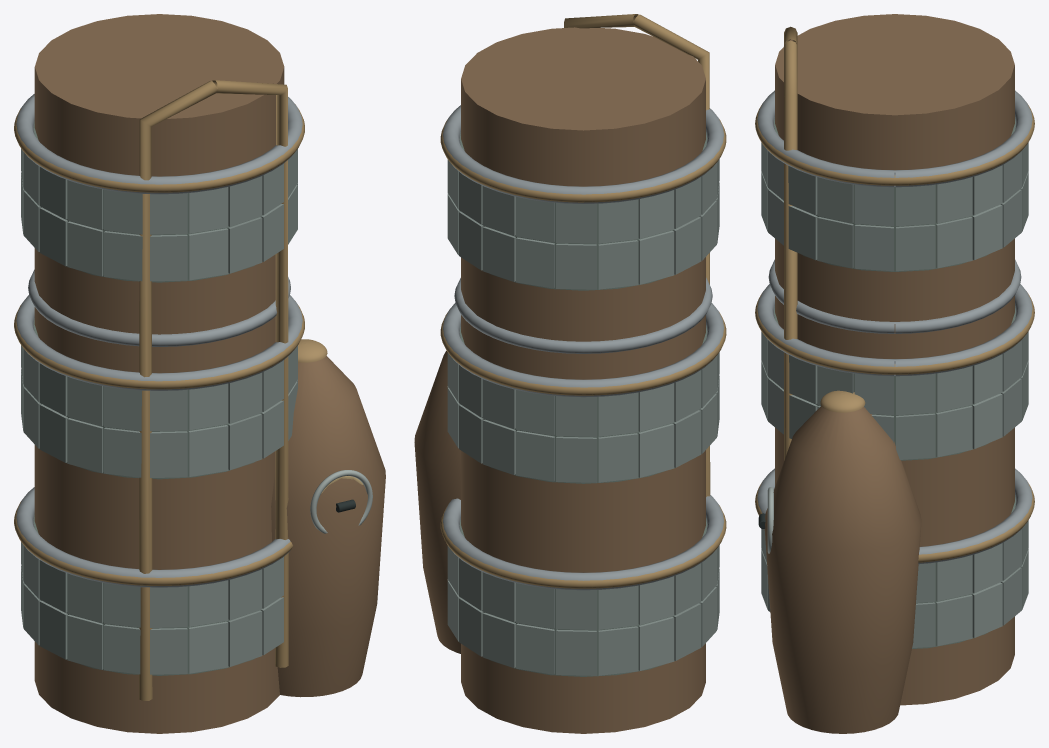
The picture shows the model from 3 angles, left to right: view 1: azimuth 30°, elevation 25°; view 2: azimuth 150°, elevation 25°; view 3: azimuth 270°, elevation 25°; orthographic projection. The views are drawn at different scales.
Parts seen in each view (by area): view 1: Cylindrical tower, Bulb shaped chamber, Refuelling reservoir panels.002, Refuelling reservoir panels.001, Refuelling reservoir panels, Refuelling delivery manifold, Refuelling delivery manifold.001, Fuel band upper rim.002, Fuel band upper rim.001, Fuel band upper rim, Tower seam, Refuelling reservoir tension band.002 (+6 smaller); view 2: Cylindrical tower, Refuelling reservoir panels.002, Refuelling reservoir panels, Refuelling reservoir panels.001, Bulb shaped chamber, Fuel band upper rim.002, Fuel band upper rim, Fuel band upper rim.001, Tower seam, Refuelling reservoir tension band.001, Refuelling reservoir tension band, Refuelling reservoir tension band.002 (+5 smaller); view 3: Cylindrical tower, Bulb shaped chamber, Refuelling reservoir panels.002, Refuelling reservoir panels.001, Refuelling reservoir panels, Fuel band upper rim.002, Fuel band upper rim.001, Refuelling delivery manifold.001, Tower seam, Refuelling reservoir tension band.001, Refuelling reservoir tension band.002, Fuel band upper rim (+4 smaller).
Part boxes in pixels (x1,y1,x2,y2): Cylindrical tower: [34, 14, 284, 733]; Bulb shaped chamber: [271, 356, 385, 697]; Refuelling reservoir panels.002: [21, 148, 297, 281]; Refuelling reservoir panels.001: [21, 345, 297, 477]; Refuelling reservoir panels: [21, 542, 283, 674]; Refuelling delivery manifold: [139, 81, 217, 700]; Refuelling delivery manifold.001: [212, 80, 288, 667]; Fuel band upper rim.002: [16, 94, 302, 194]; Fuel band upper rim.001: [16, 295, 302, 390]; Fuel band upper rim: [16, 487, 290, 587]; Tower seam: [28, 269, 290, 346]; Refuelling reservoir tension band.002: [14, 104, 304, 192]; Cylindrical tower: [461, 27, 705, 733]; Refuelling reservoir panels.002: [447, 159, 719, 289]; Refuelling reservoir panels: [447, 545, 719, 675]; Refuelling reservoir panels.001: [447, 352, 719, 482]; Bulb shaped chamber: [414, 351, 460, 653]; Fuel band upper rim.002: [443, 105, 724, 203]; Fuel band upper rim: [443, 495, 724, 590]; Fuel band upper rim.001: [443, 303, 724, 397]; Tower seam: [454, 277, 712, 353]; Refuelling reservoir tension band.001: [440, 308, 726, 395]; Refuelling reservoir tension band: [440, 505, 726, 588]; Refuelling reservoir tension band.002: [440, 119, 726, 202]; Cylindrical tower: [775, 14, 1014, 705]; Bulb shaped chamber: [764, 406, 921, 733]; Refuelling reservoir panels.002: [761, 142, 1028, 271]; Refuelling reservoir panels.001: [761, 331, 1028, 459]; Refuelling reservoir panels: [761, 520, 1028, 648]; Fuel band upper rim.002: [757, 90, 1032, 187]; Fuel band upper rim.001: [757, 284, 1032, 376]; Refuelling delivery manifold.001: [784, 40, 797, 460]; Tower seam: [768, 259, 1021, 333]; Refuelling reservoir tension band.001: [755, 293, 1034, 374]; Refuelling reservoir tension band.002: [755, 105, 1034, 185]; Fuel band upper rim: [757, 468, 1032, 564].
Bounding box in the file's own units: 1.34 × 2.61 × 1.07.
